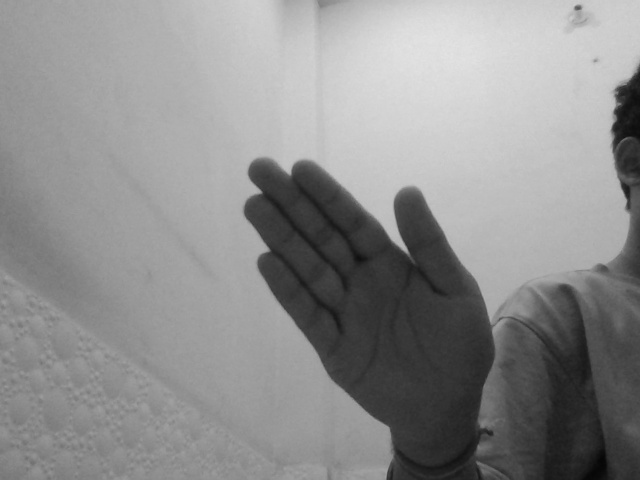Hello: (241, 155, 498, 438)
